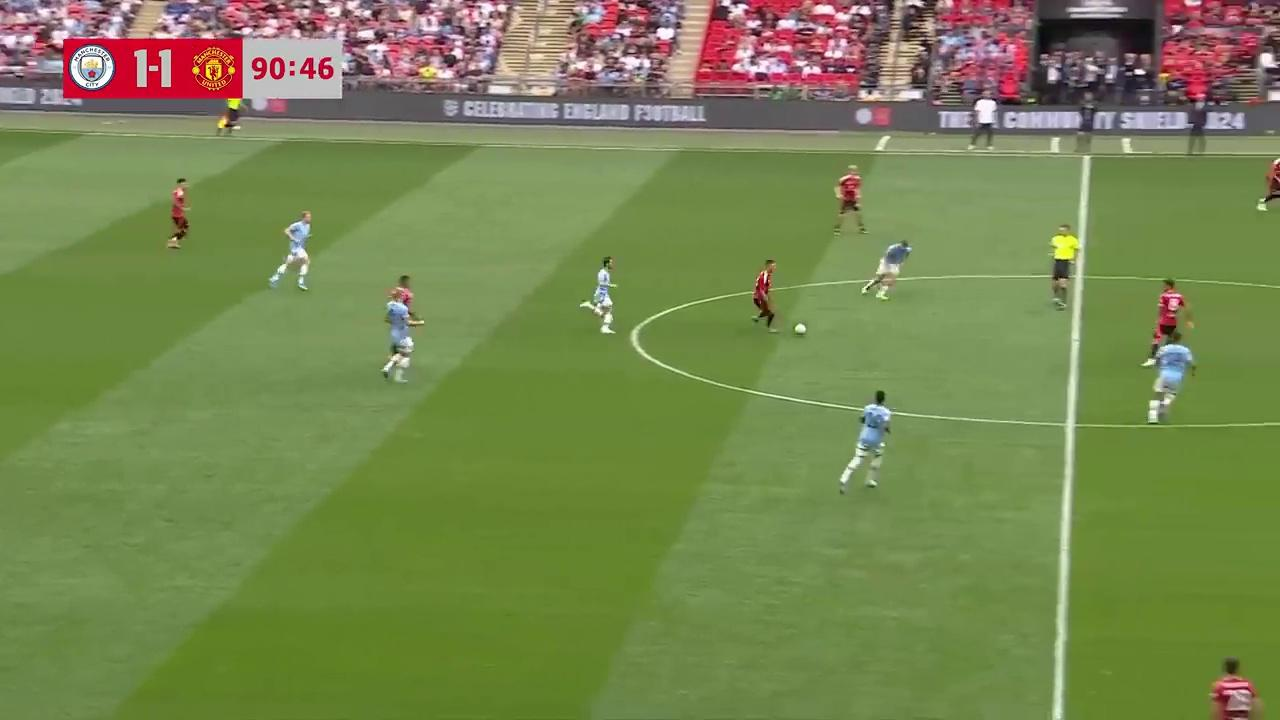ball: (793, 320, 807, 336)
player: (838, 389, 892, 494), (1143, 327, 1197, 421), (1143, 279, 1195, 361), (268, 209, 312, 291), (382, 289, 417, 383), (1209, 656, 1260, 719), (861, 237, 911, 299), (584, 256, 618, 335), (386, 274, 423, 343), (833, 166, 865, 235), (751, 258, 778, 331), (166, 177, 191, 250), (1256, 156, 1280, 213)
referee: (1049, 223, 1080, 310), (214, 86, 241, 137)
